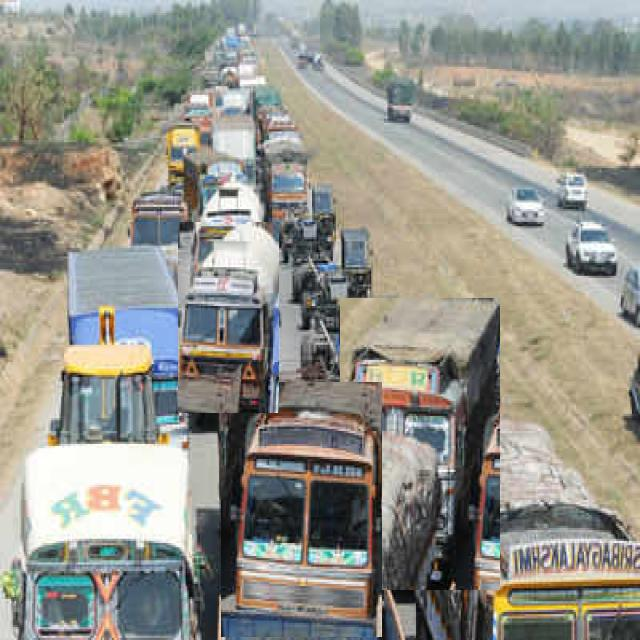truck: (401, 421, 640, 638), (340, 298, 500, 590), (221, 382, 381, 637), (70, 246, 188, 442), (178, 222, 279, 413)
